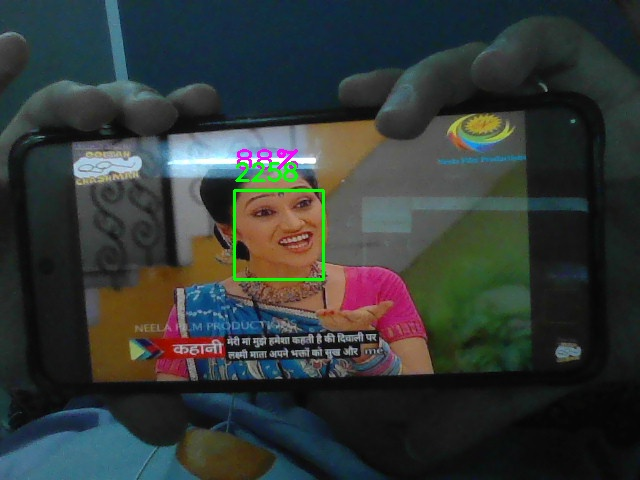fake: (234, 190, 324, 280)
